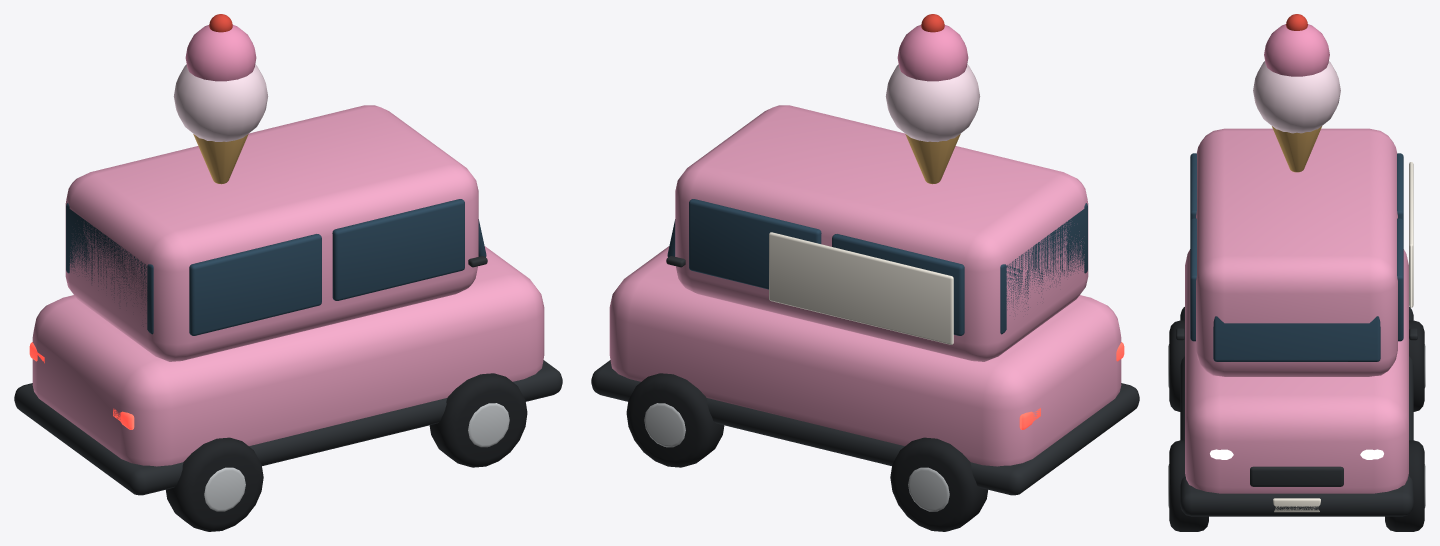
Rendered from car_festival.glb.
The picture shows the model from 3 angles, left to right: view 1: azimuth 30°, elevation 25°; view 2: azimuth 150°, elevation 25°; view 3: azimuth 270°, elevation 25°; orthographic projection. The views are drawn at different scales.
Parts seen in each view (by area): view 1: car_festival; view 2: car_festival; view 3: car_festival.
Boxes of the visible parts, x1,y1,x2,y2 form: car_festival: (14, 14, 562, 531); car_festival: (591, 14, 1139, 531); car_festival: (1168, 14, 1425, 531).
Bounding box in the file's own units: 2.11 × 2.12 × 1.17.
Materials: 3 (3 with a texture image).
